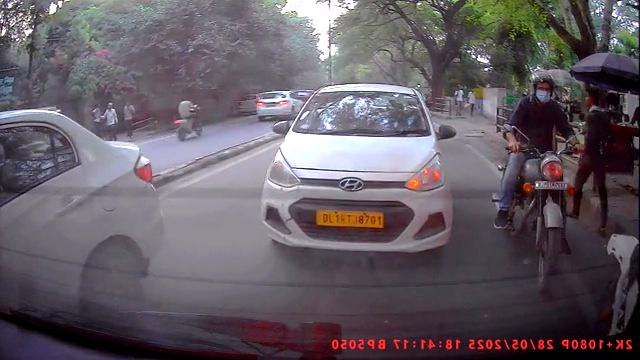motorcycle_with_helmet: (490, 66, 581, 290)
